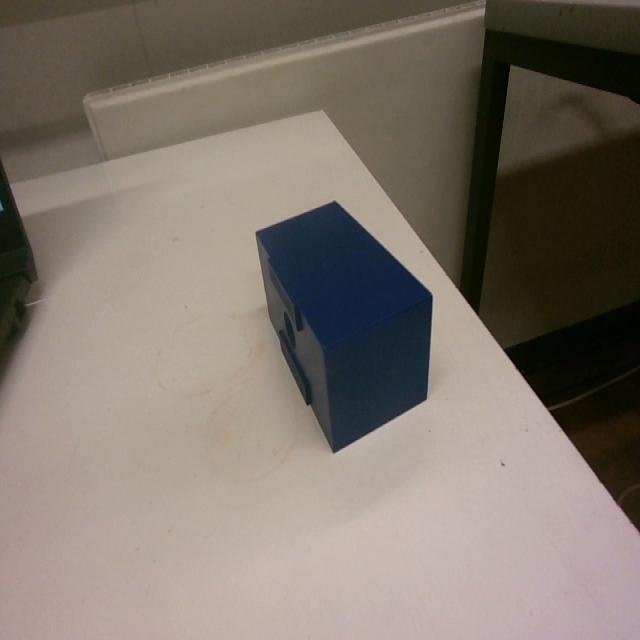Blue Cuboid: (252, 196, 435, 453)
